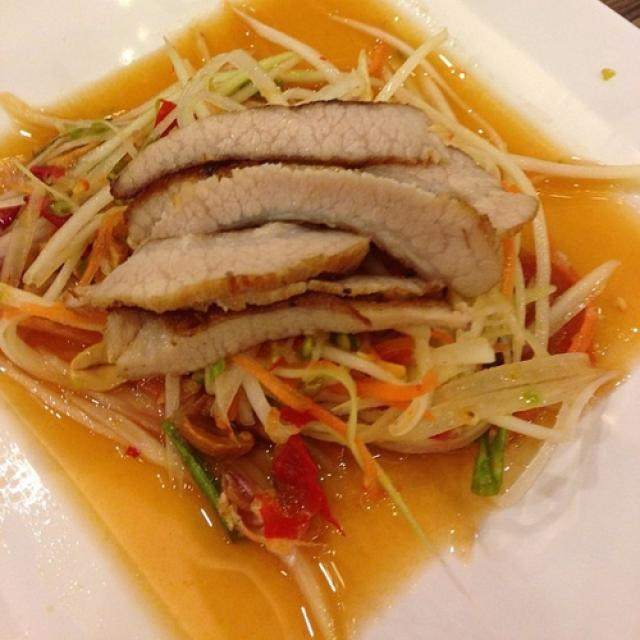蔬菜料理: (18, 21, 612, 616)
